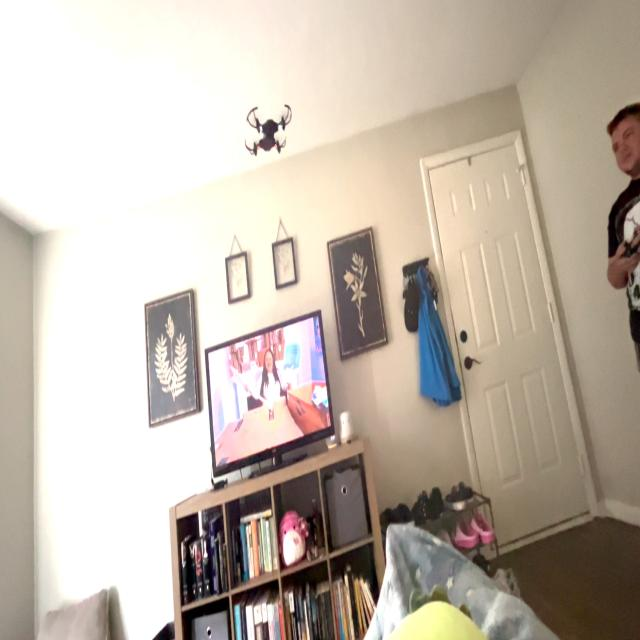drone: (239, 97, 294, 168)
